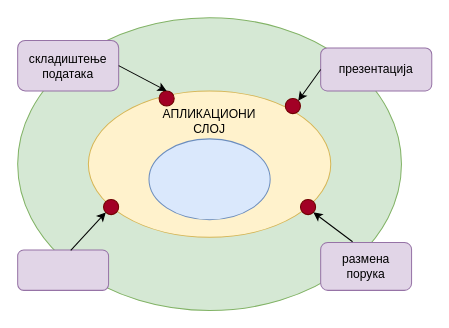
This 449x328 diagram has some shape labels left out. Each missing label, with the centre of its shape:
веб сервиси: the point at 63,269
ДОМЕНСКИ СЛОЈ: the point at 209,179
